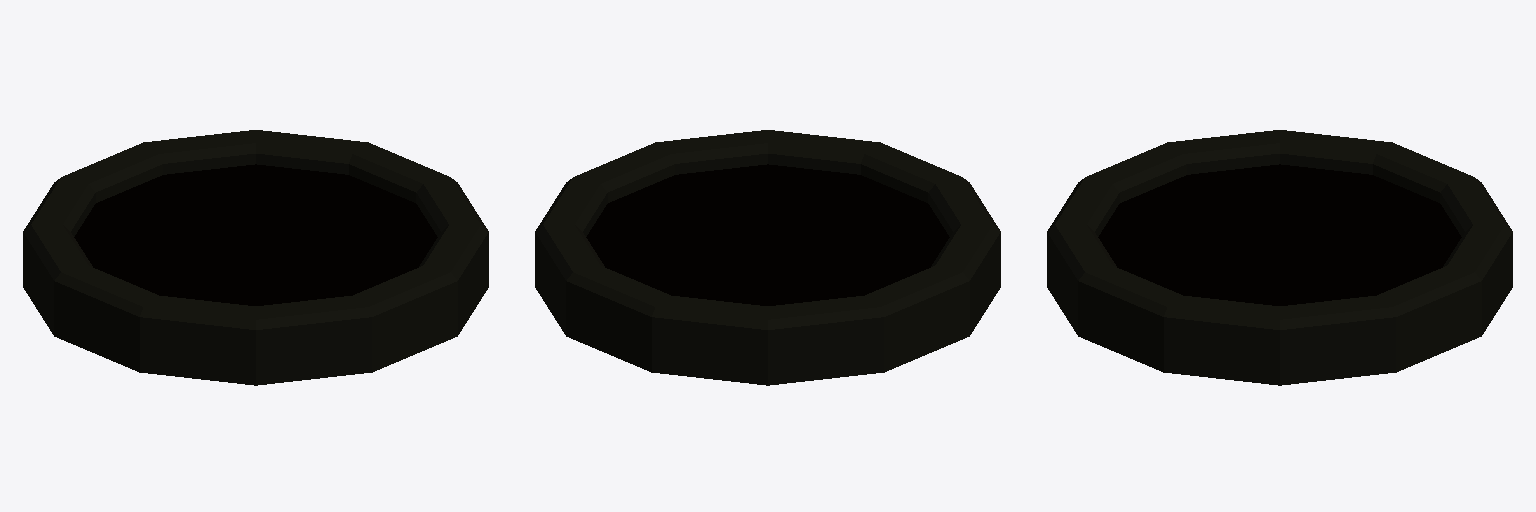
Rendered from FlowerBed3.obj.
3 views of the same model, side by side, from view 1: azimuth 30°, elevation 25°; view 2: azimuth 150°, elevation 25°; view 3: azimuth 270°, elevation 25° (orthographic).
Parts seen in each view (by area): view 1: FlowerBed3_Cylinder.007; view 2: FlowerBed3_Cylinder.007; view 3: FlowerBed3_Cylinder.007.
Part boxes in pixels (bbox=[...]): FlowerBed3_Cylinder.007: bbox=[23, 130, 488, 385]; FlowerBed3_Cylinder.007: bbox=[535, 130, 1000, 385]; FlowerBed3_Cylinder.007: bbox=[1047, 130, 1512, 385].
Bounding box in the file's own units: 3.4 × 0.5035 × 3.4.